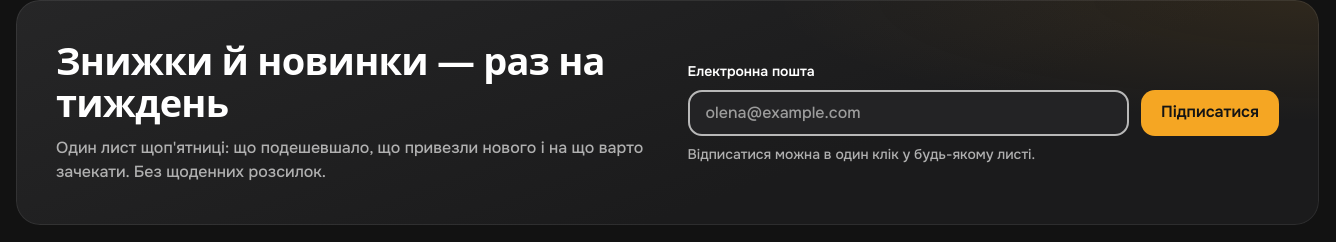
it: Newsletter › передає в onSubmit адресу без пробілів і показує підтвердження на місці форми
The image size is (1336, 242).
Type "  olena@example.com " into the field labelled "Електронна пошта" at [908, 113], box [688,90,1129,136]
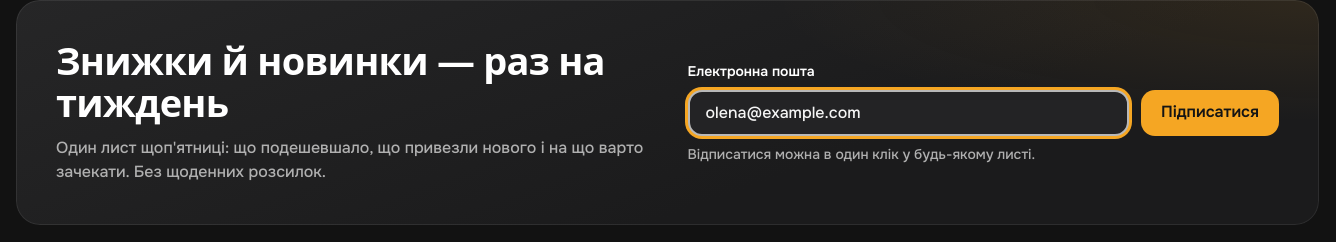
Click the button "Підписатися" at [1210, 113], box [1141,90,1279,136]
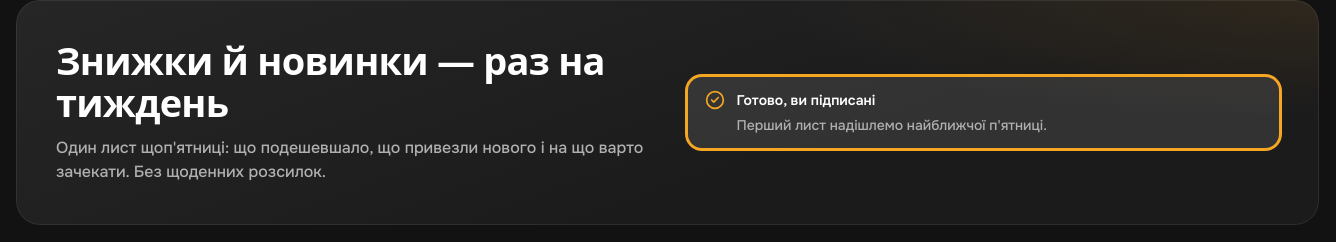
Check: the message shows "Готово, ви підписані", box [736,91,875,109]
Check: the field is gone
